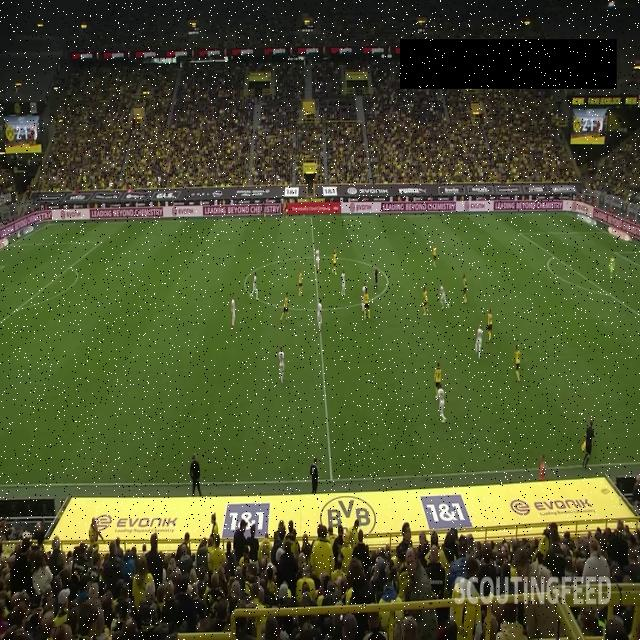GoalKeeper: (608, 254, 616, 279)
Referee: (581, 420, 595, 469), (374, 267, 379, 293), (260, 202, 266, 218)
TEAM 1: (512, 345, 522, 381), (280, 293, 290, 323), (434, 361, 442, 398), (364, 289, 372, 319), (486, 310, 493, 344), (422, 286, 429, 316), (462, 273, 468, 303), (332, 250, 338, 276), (298, 268, 303, 298), (432, 244, 438, 267)
TEAM 2: (436, 384, 447, 424), (438, 282, 450, 311), (278, 347, 286, 384), (475, 325, 483, 359), (249, 272, 258, 300), (231, 295, 237, 327), (316, 299, 322, 331), (362, 283, 368, 312), (341, 269, 346, 298), (315, 249, 320, 270)
